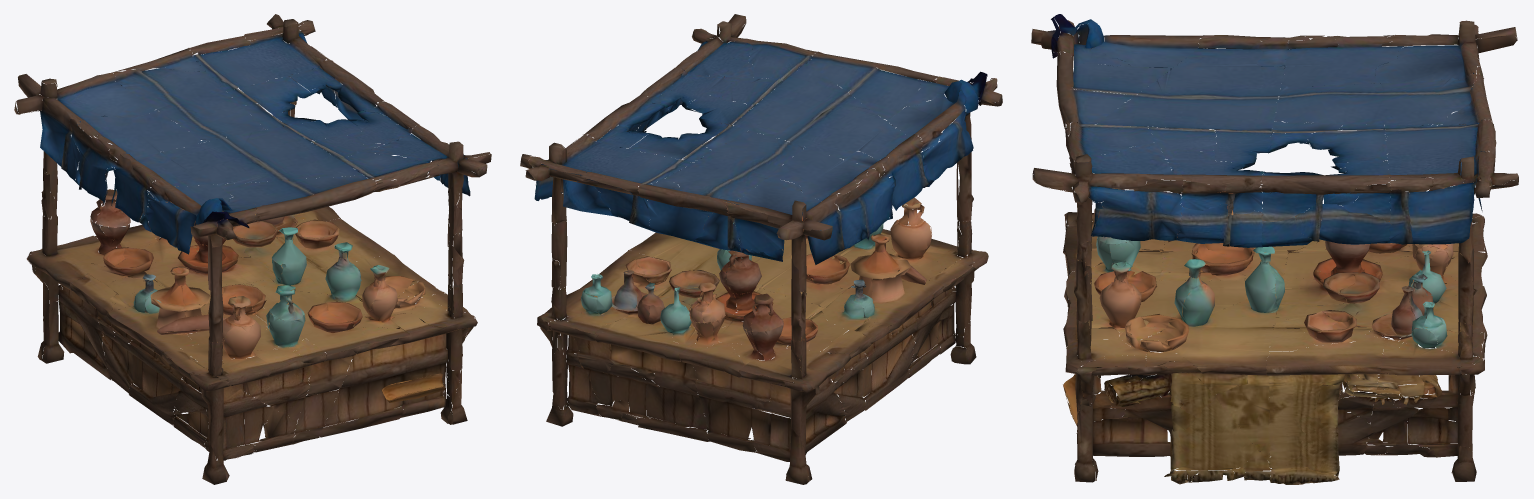
Rendered from caravan_merchant_stall.glb.
The picture shows the model from 3 angles, left to right: view 1: azimuth 30°, elevation 25°; view 2: azimuth 150°, elevation 25°; view 3: azimuth 270°, elevation 25°; orthographic projection. The views are drawn at different scales.
Visible parts, largest first — view 1: tripo_node_7868f9eb-5009-45b9-859e-7136784b301e; view 2: tripo_node_7868f9eb-5009-45b9-859e-7136784b301e; view 3: tripo_node_7868f9eb-5009-45b9-859e-7136784b301e.
Part boxes in pixels (x1=…): tripo_node_7868f9eb-5009-45b9-859e-7136784b301e: x1=14, y1=14, x2=491, y2=484; tripo_node_7868f9eb-5009-45b9-859e-7136784b301e: x1=520, y1=14, x2=1002, y2=484; tripo_node_7868f9eb-5009-45b9-859e-7136784b301e: x1=1031, y1=14, x2=1518, y2=484.
Bounding box in the file's own units: 4.03 × 3.5 × 4.8.
1 material, 1 textured.
